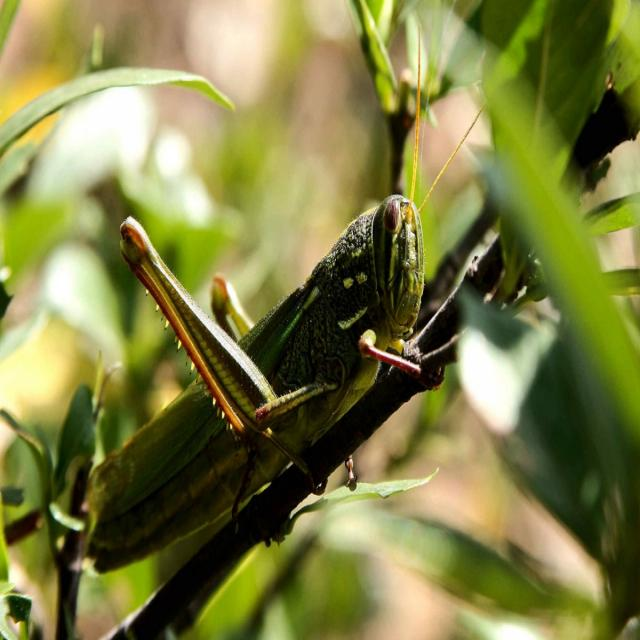ZhaMeng: (71, 177, 432, 569)
